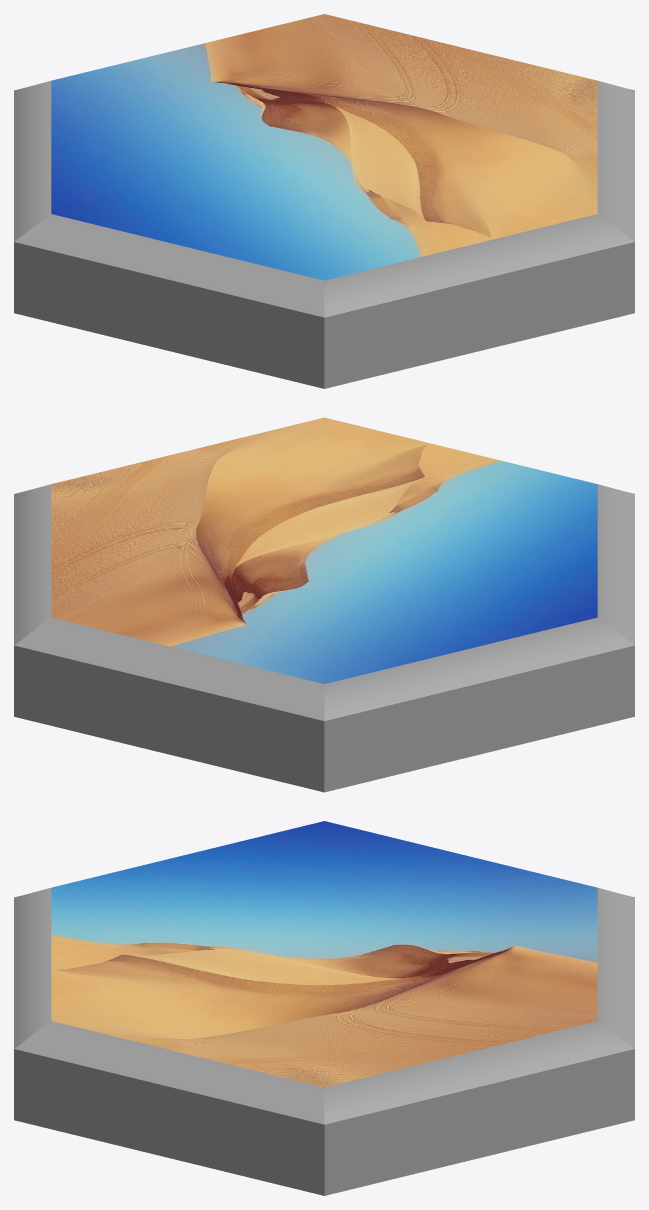
Rendered from new_tile.fbx.
3 renders of one model, top to bottom at view 1: azimuth 30°, elevation 25°; view 2: azimuth 150°, elevation 25°; view 3: azimuth 270°, elevation 25°, orthographic.
Parts seen in each view (by area): view 1: pPlane1, pCylinder1; view 2: pPlane1, pCylinder1; view 3: pPlane1, pCylinder1.
Boxes of the visible parts, <box> form: pPlane1: <box>14,14,634,317</box>; pCylinder1: <box>14,90,634,388</box>; pPlane1: <box>14,417,634,720</box>; pCylinder1: <box>14,493,634,792</box>; pPlane1: <box>14,821,634,1124</box>; pCylinder1: <box>14,897,634,1195</box>.
Bounding box in the file's own units: 2 × 0.2774 × 1.73.
Materials: 3 (1 with a texture image).
